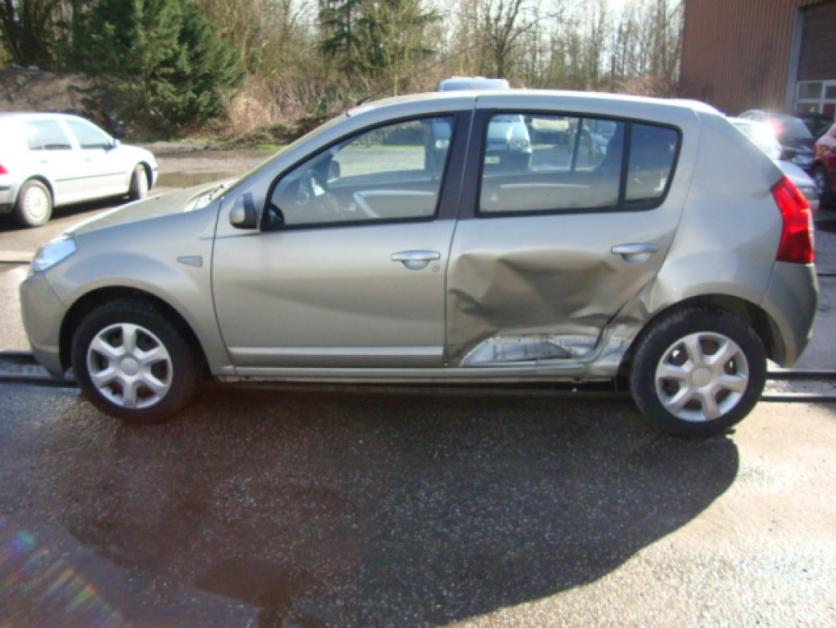Back-bumper: (761, 263, 818, 368)
Back-door: (444, 95, 700, 366)
Back-wheel: (630, 304, 769, 439)
Back-window: (478, 113, 624, 214), (625, 124, 676, 200)
Fender: (43, 202, 231, 364)
Front-bumper: (20, 274, 65, 379)
Front-door: (210, 97, 475, 368)
Front-wheel: (72, 297, 199, 421)
Front-window: (273, 120, 452, 226)
Headlight: (29, 235, 78, 274)
Hood: (68, 179, 233, 233)
Mirror: (231, 194, 254, 228)
Quarter-panel: (602, 182, 781, 359)
Rocker-panel: (213, 358, 621, 383)
Roof: (349, 87, 695, 115)
Tail-light: (772, 177, 815, 264)
Trunk: (694, 100, 784, 183)
Windshield: (234, 113, 347, 186)
